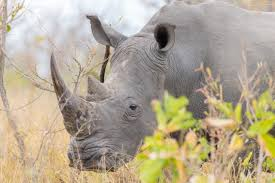Rhinoceros: (49, 2, 272, 174)
